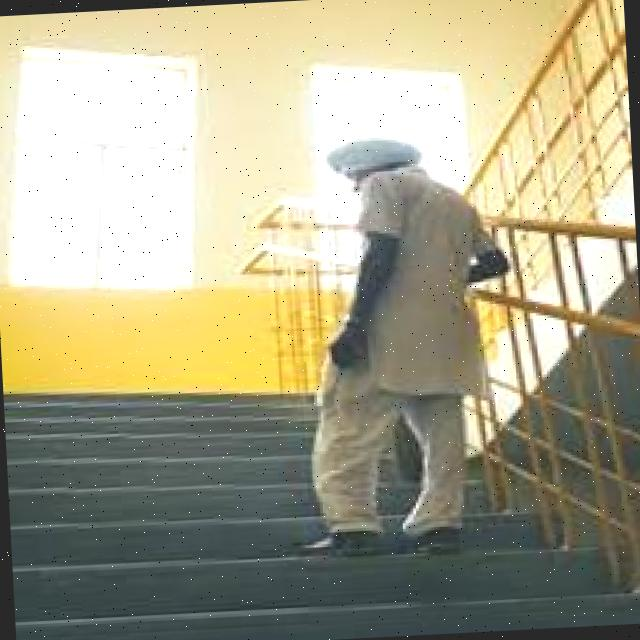stairs: (0, 288, 633, 640)
